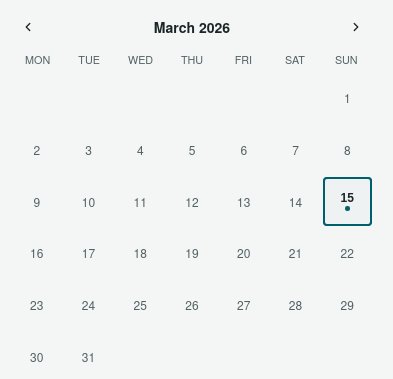
Test: RestorePointCalendar › navigates between months without losing the day-with-restore-points marker
Expected: the text "March 2026" is shown, [154,17,230,37]
Step 1. Click the button named "Previous month" → coordinates (28, 27), box [12,12,43,42]
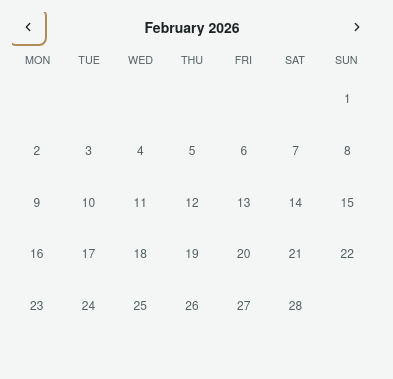
Expected: the text "February 2026" is shown, [144,17,240,37]
Step 2. Click the button named "Next month" → coordinates (356, 27), box [341,12,372,42]
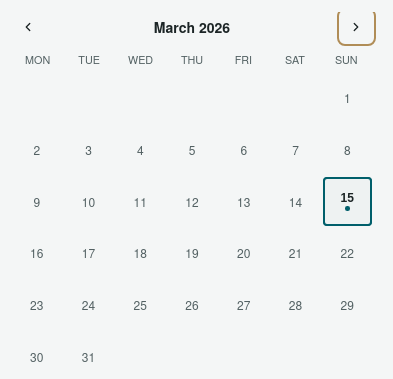
Expected: the text "March 2026" is shown, [154,17,230,37]
